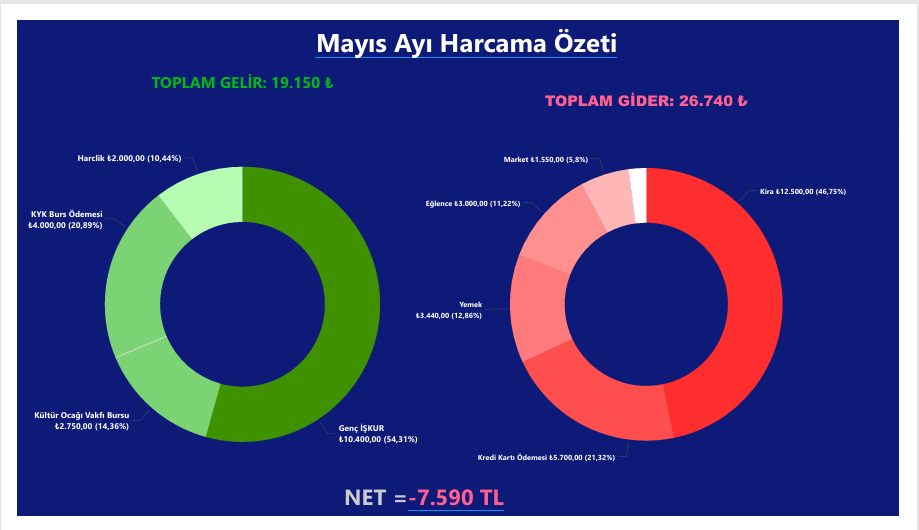

The page's visual inventory and layout, read from the dashboard file:
{"tool":"powerbi","page":{"name":"4. sayfa","canvas":[1280,720],"ordinal":0},"visuals":[{"type":"donutChart","fields":{"Category":["Hesap_Ozeti_Giderler.Kategori"],"Y":["Sum(Hesap_Ozeti_Giderler.Tutar)"]},"box":[545,101.2,735,591.2],"z":0},{"type":"donutChart","fields":{"Category":["Hesap_Ozeti_Gelirler.Kategori"],"Y":["Sum(Hesap_Ozeti_Gelirler.Tutar)"],"Series":["Hesap_Ozeti_Gelirler.Açıklama"]},"box":[0,73.8,652.5,646.2],"z":1000},{"type":"textbox","box":[468.8,663.8,388.8,56.2],"z":2000},{"type":"textbox","box":[443.8,17.5,323.8,62.5],"z":3000},{"type":"textbox","box":[427.5,0,485,73.8],"z":3001}]}

Visuals, with their boxes in screenshot pixels (x1, y1, x2, y2), scaled from the page's 1280x720 canvas onto the 919x530 screenshot:
donutChart - Hesap_Ozeti_Giderler.Kategori x Sum(Hesap_Ozeti_Giderler.Tutar): (left=391, top=74, right=918, bottom=510)
donutChart - Hesap_Ozeti_Gelirler.Kategori x Sum(Hesap_Ozeti_Gelirler.Tutar): (left=0, top=54, right=468, bottom=529)
textbox: (left=337, top=489, right=616, bottom=529)
textbox: (left=319, top=13, right=551, bottom=59)
textbox: (left=307, top=0, right=655, bottom=54)
